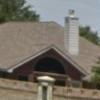Chimney: (59, 3, 84, 58)
